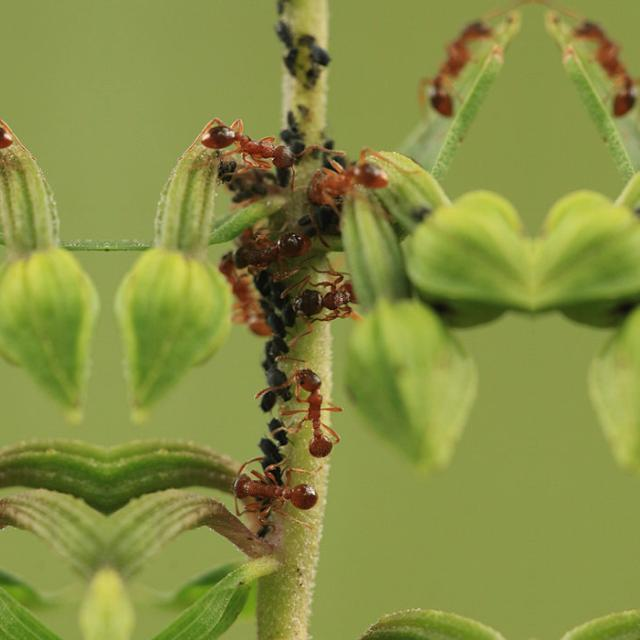Myrmica: (300, 144, 408, 222), (227, 458, 335, 532), (423, 8, 487, 124), (198, 108, 304, 178), (578, 8, 640, 122), (200, 239, 274, 327), (288, 362, 352, 462), (242, 214, 332, 280), (286, 266, 366, 320)
